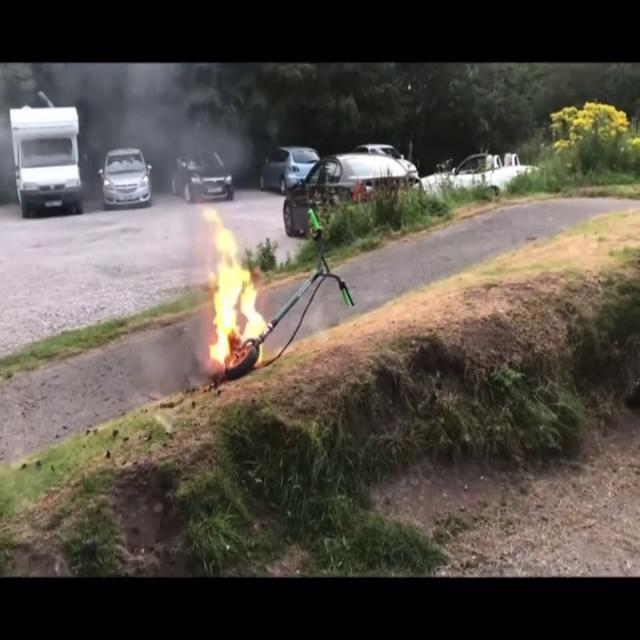Fire: (197, 202, 264, 368)
Smoke: (64, 63, 235, 165)
